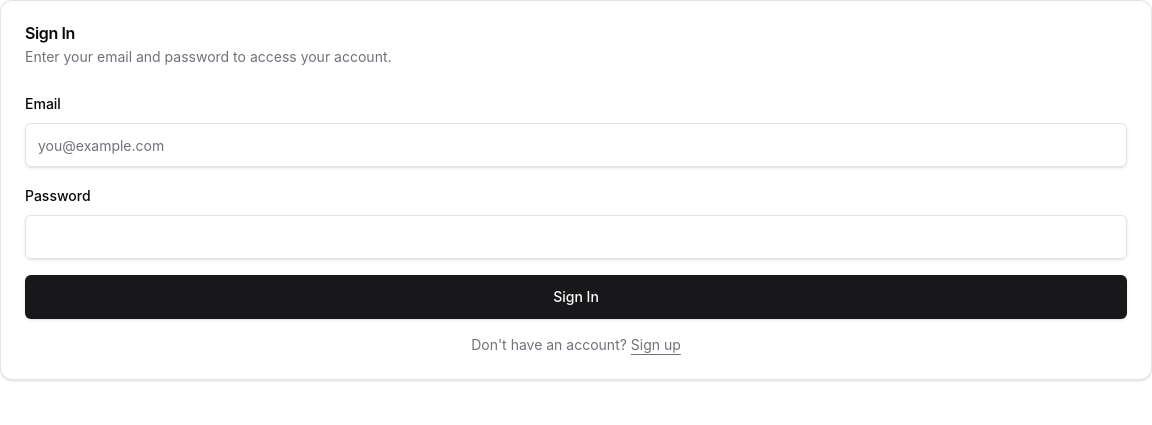
Test: LoginPage › shows inline error on email field when server returns email-related error
Type "test@example.com" into the field labelled "Email" at (576, 145), box [25,123,1127,167]
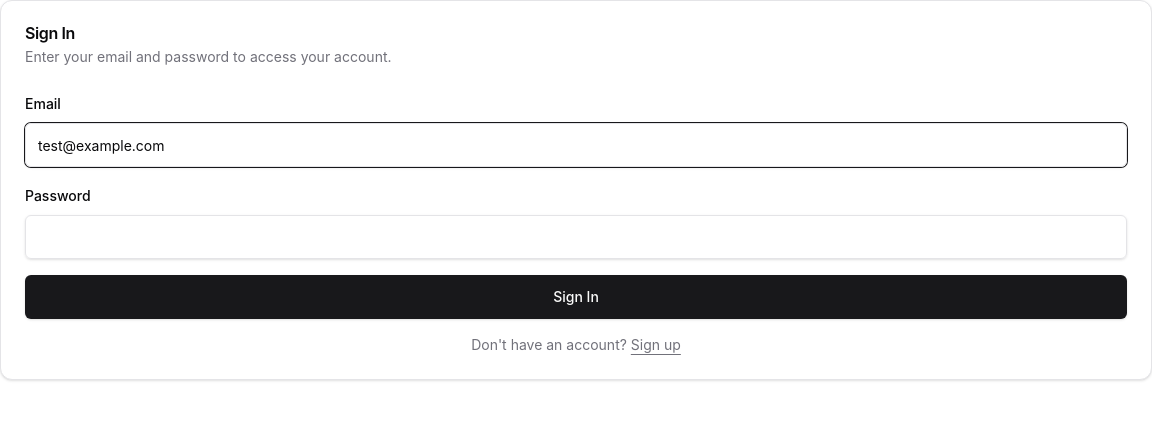
Type "password123" into the password field labelled "Password" at (576, 237), box [25,215,1127,259]
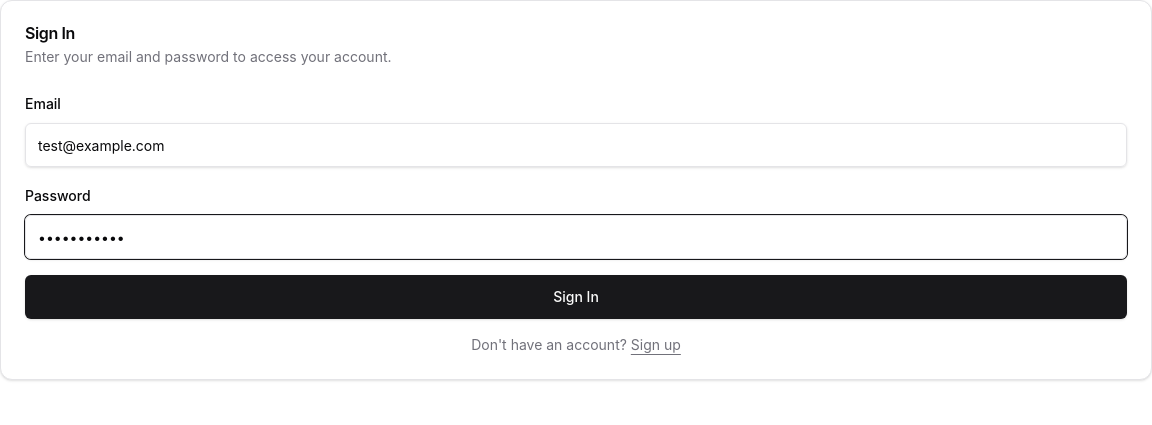
Click the button "Sign In" at (576, 297), box [25,275,1127,319]
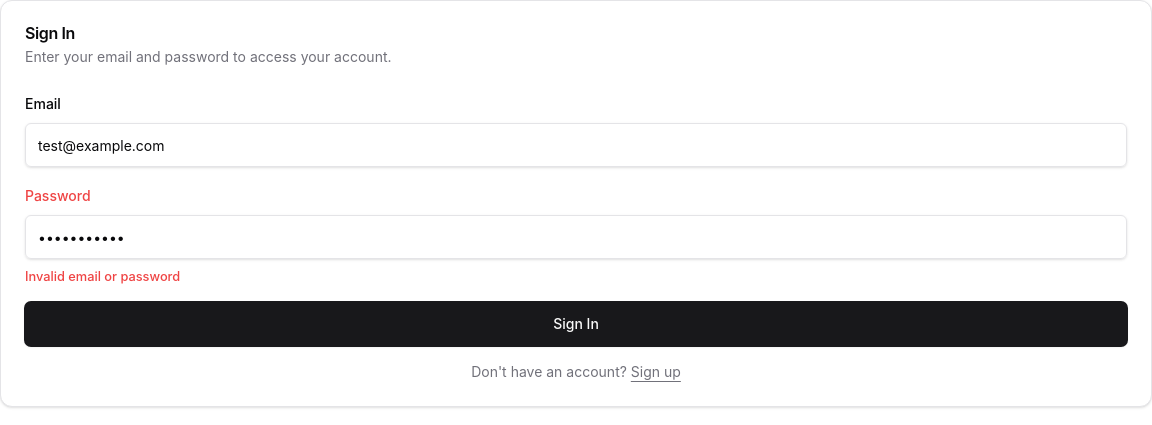
Expected: the text "Invalid email or password" is shown, [25,269,180,284]
